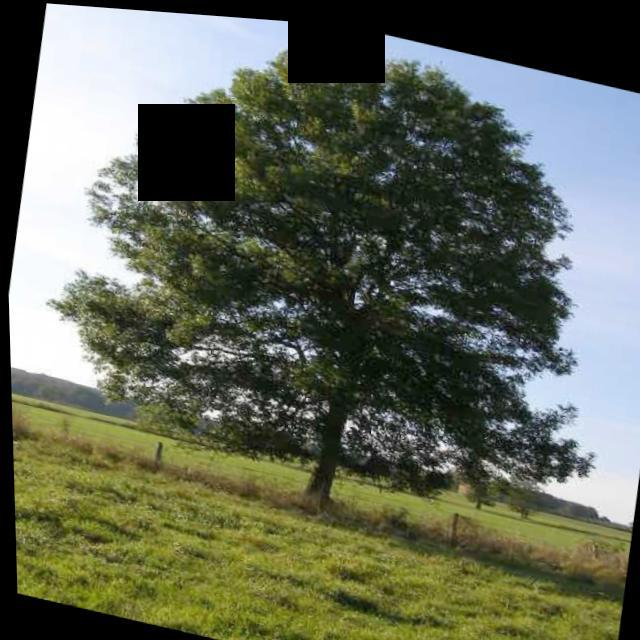Tree: (21, 2, 640, 567)
